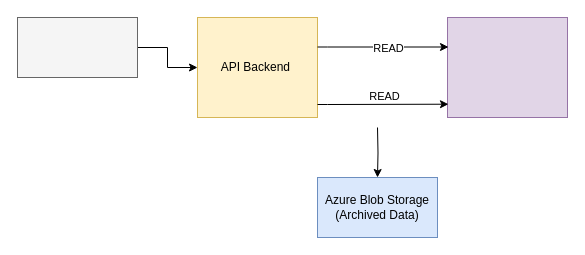
This 585x255 diagram has some shape labels left out. The shapes that lost their labels are listed below. From the top down, each one's box as (x1, y1, x2, y2) in pixels, then its label:
(16, 16, 138, 78): Clint
(446, 16, 568, 118): COSMOS DB (Recent Records)
